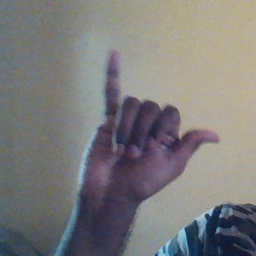J: (79, 50, 221, 201)
